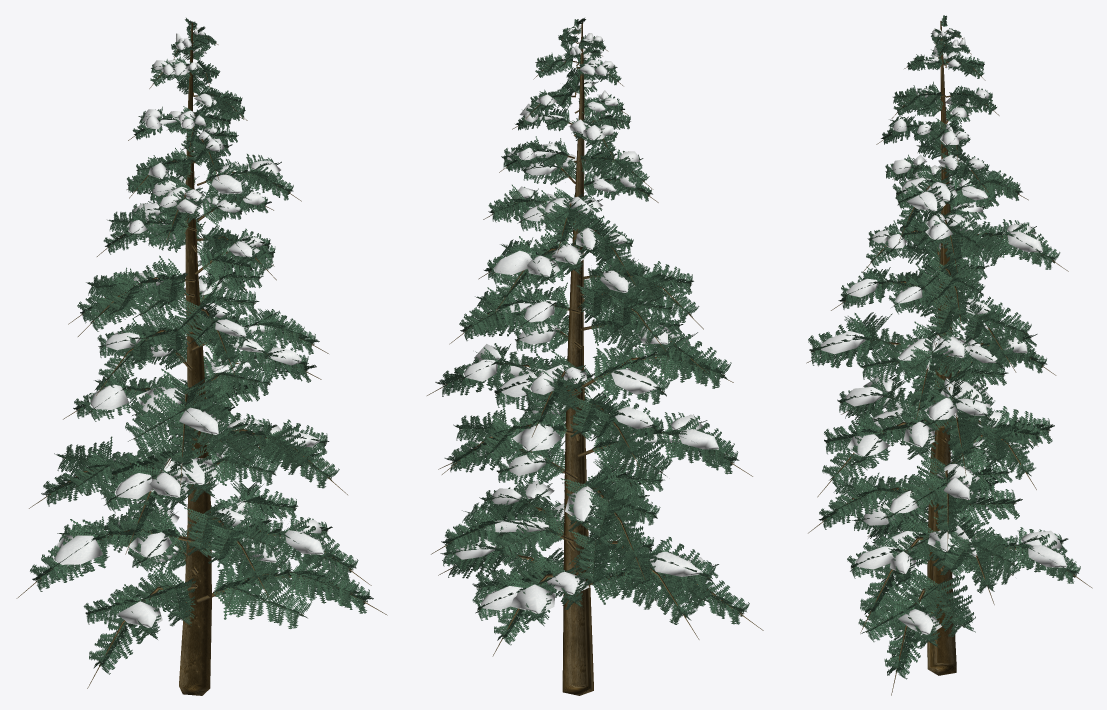
3 renders of one model, left to right at view 1: azimuth 30°, elevation 25°; view 2: azimuth 150°, elevation 25°; view 3: azimuth 270°, elevation 25°, orthographic. The views are drawn at different scales.
Parts seen in each view (by area): view 1: Mesh_NeedleSprays, Mesh_SupportedSnowLoads, Mesh_BarkStructure; view 2: Mesh_NeedleSprays, Mesh_SupportedSnowLoads, Mesh_BarkStructure; view 3: Mesh_NeedleSprays, Mesh_SupportedSnowLoads, Mesh_BarkStructure.
Boxes of the visible parts, x1,y1,x2,y2 form: Mesh_NeedleSprays: [30, 18, 373, 674]; Mesh_SupportedSnowLoads: [52, 25, 335, 627]; Mesh_BarkStructure: [16, 22, 387, 695]; Mesh_NeedleSprays: [435, 18, 749, 645]; Mesh_SupportedSnowLoads: [455, 24, 718, 613]; Mesh_BarkStructure: [427, 22, 763, 695]; Mesh_NeedleSprays: [808, 15, 1080, 679]; Mesh_SupportedSnowLoads: [820, 29, 1067, 634]; Mesh_BarkStructure: [806, 21, 1092, 695].
Size of the model in its own units: 5.16 by 10.3 by 4.29.
3 materials, 3 textured.
